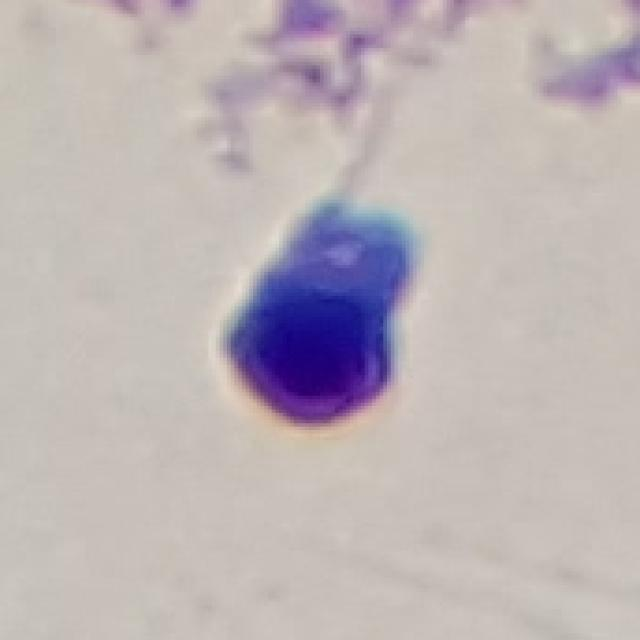non-sperm: (194, 177, 439, 445)
